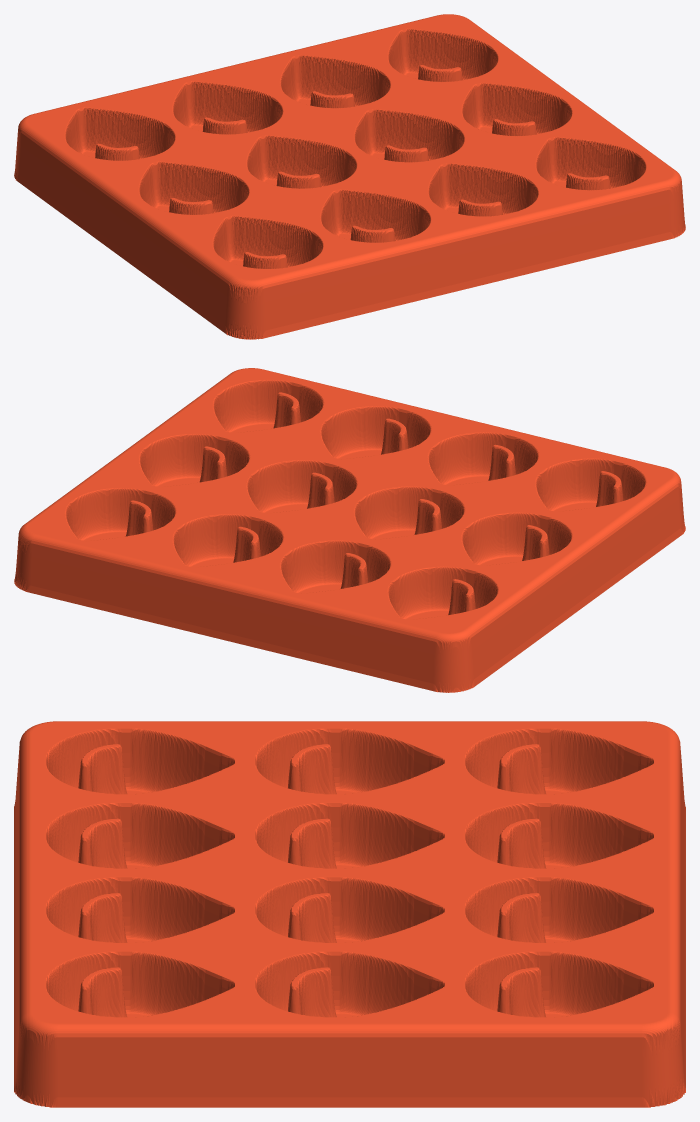
Rendered from mold.glb.
3 renders of one model, top to bottom at view 1: azimuth 30°, elevation 25°; view 2: azimuth 150°, elevation 25°; view 3: azimuth 270°, elevation 25°, orthographic. The views are drawn at different scales.
Visible parts, largest first — view 1: geometry_0; view 2: geometry_0; view 3: geometry_0.
Part boxes in pixels (x1=…): geometry_0: x1=14, y1=14, x2=685, y2=339; geometry_0: x1=14, y1=368, x2=685, y2=692; geometry_0: x1=14, y1=721, x2=685, y2=1107.
Size of the model in its own units: 0.1545 by 0.0175 by 0.1389.
